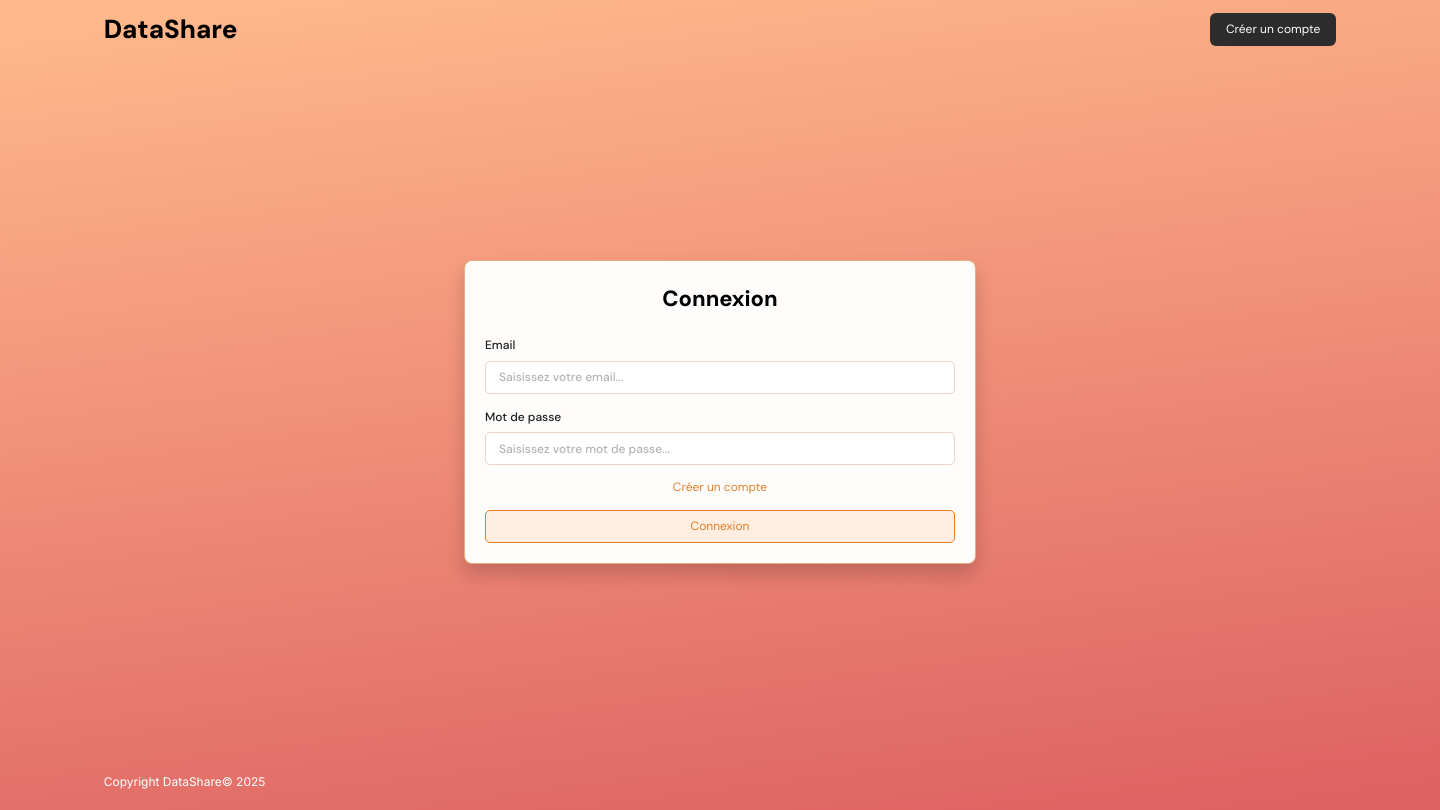
Test case: Authentication › authenticates a user and stores the token
Type "john.doe@example.com" into the field labelled "Email". click: (720, 377)
box: [485,360,955,394]
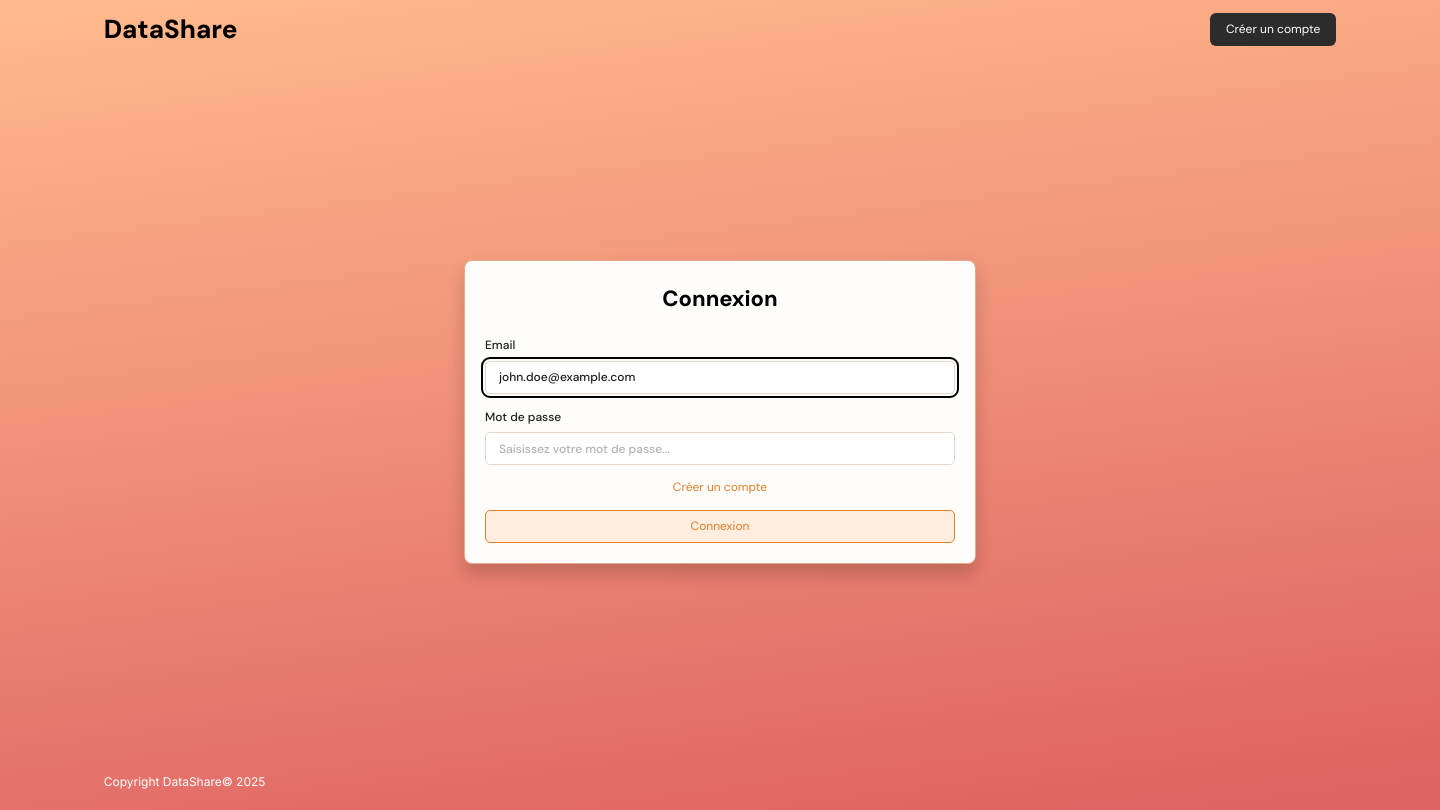
Type "password" into the password field labelled "Mot de passe". click: (720, 449)
box: [485,432,955,465]
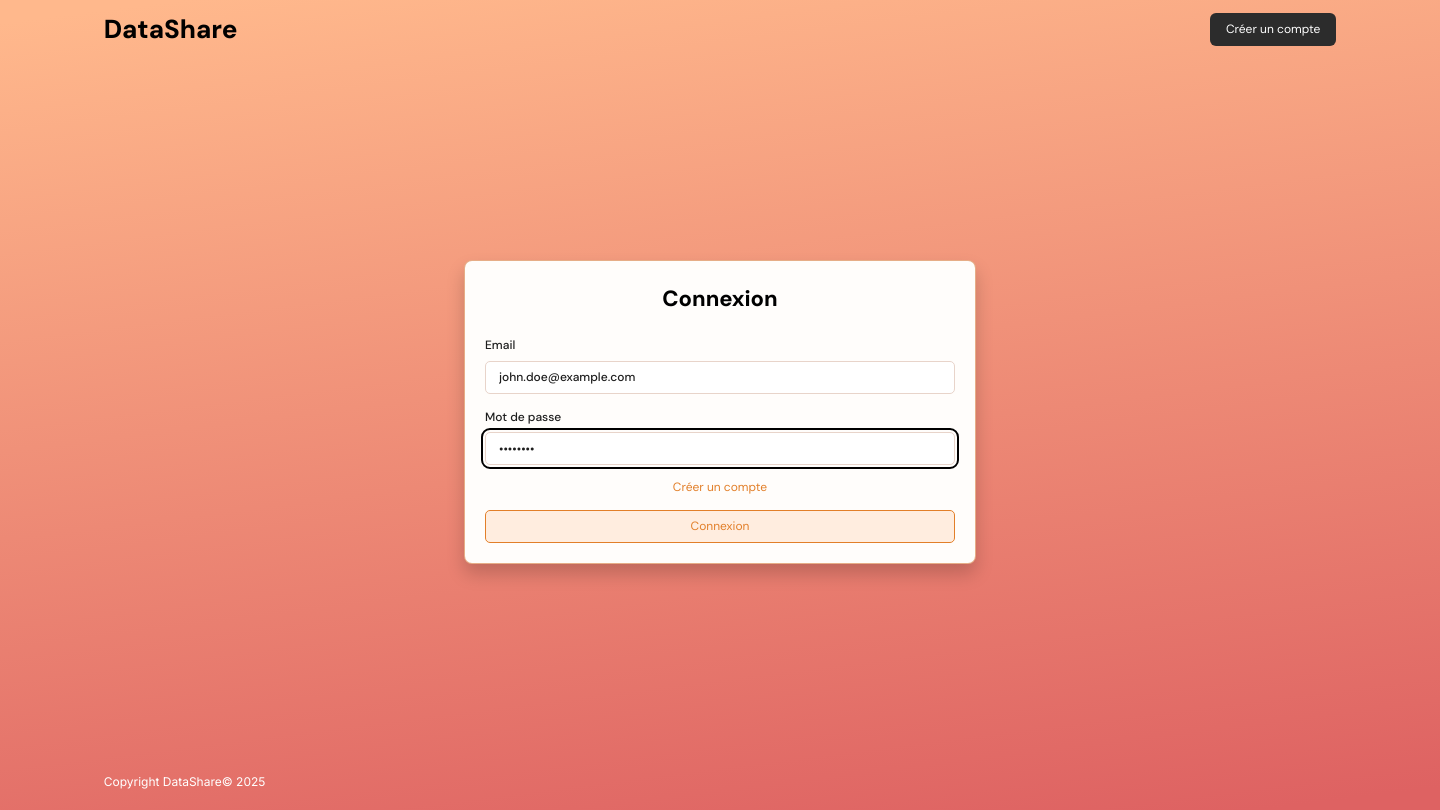
Click the button "Connexion". click: (720, 526)
box: [485,510,955,543]
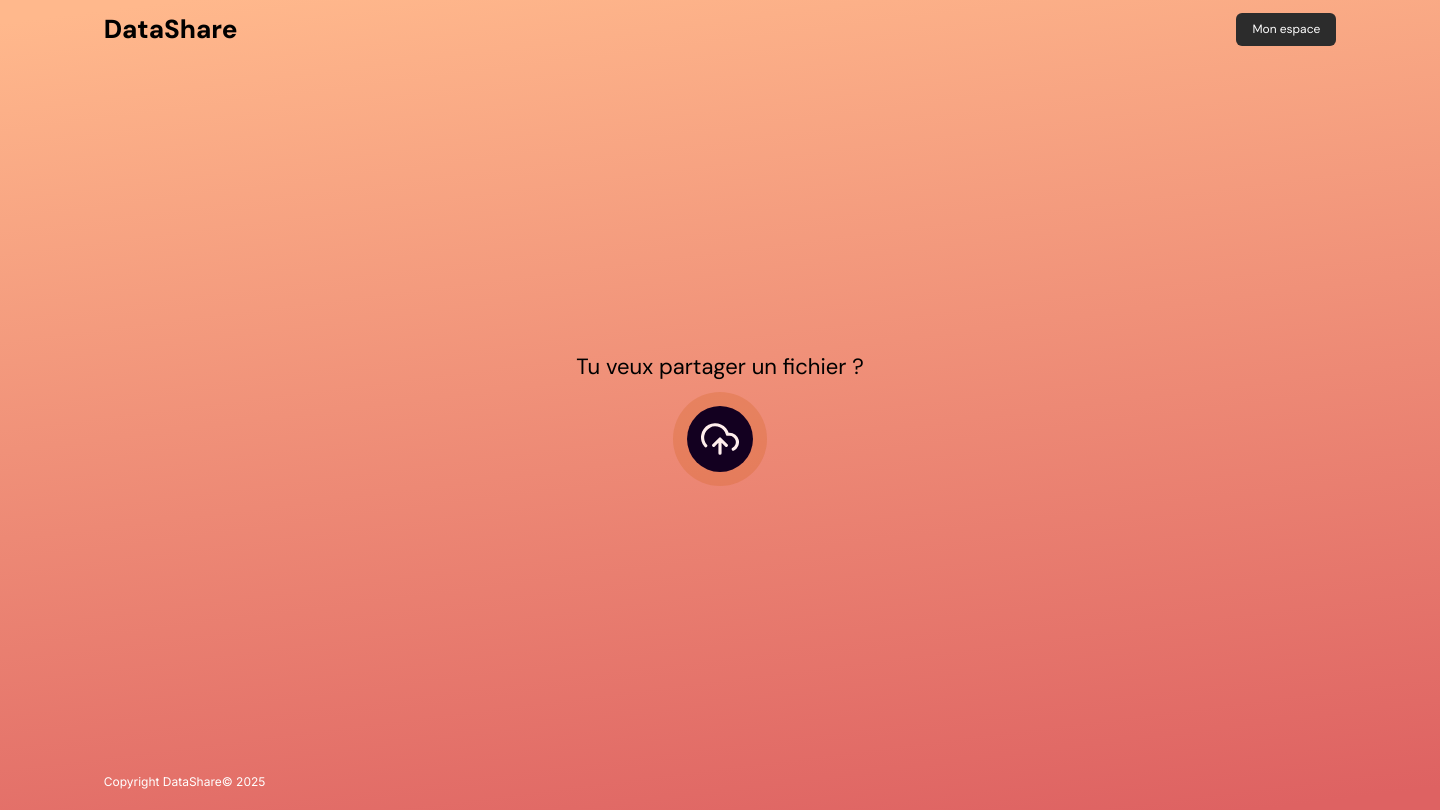
Check: the text "Tu veux partager un fichier ?" is shown, box [576,352,864,382]
